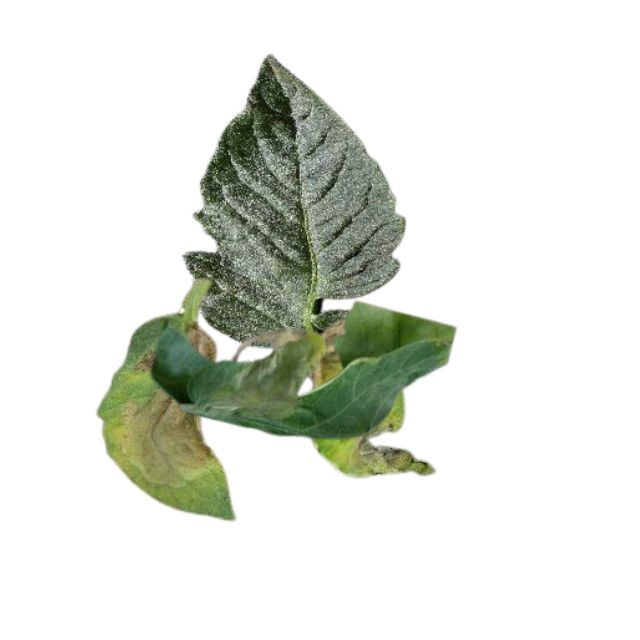Late_blight: (114, 391, 220, 491), (214, 331, 306, 422), (341, 413, 436, 478), (306, 321, 347, 389), (181, 324, 216, 364), (124, 350, 153, 375)
